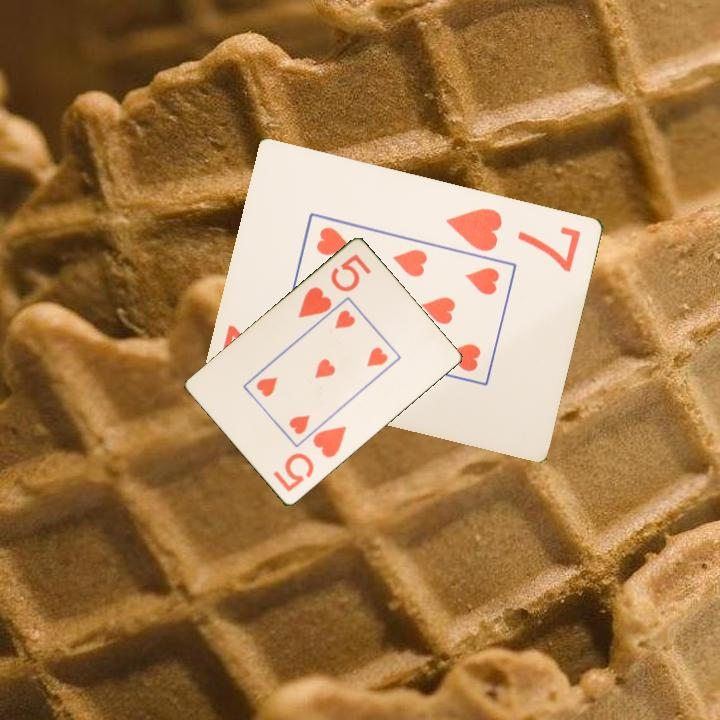5h: (269, 423, 350, 495), (294, 250, 374, 321)
7h: (442, 204, 584, 275)
